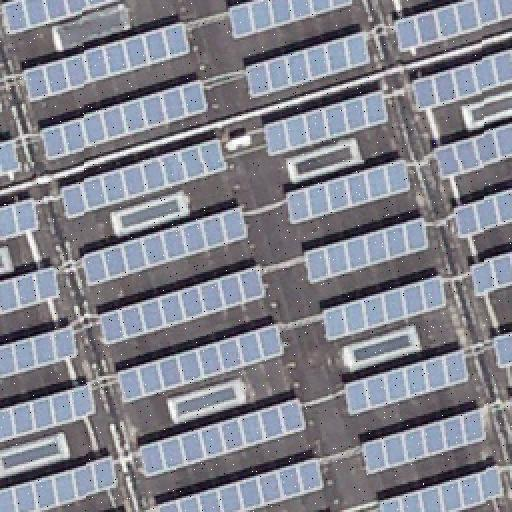solar-panel: (116, 320, 288, 404), (40, 78, 212, 162), (83, 207, 253, 289), (21, 22, 195, 102), (139, 396, 309, 476), (99, 264, 269, 344), (59, 138, 229, 218), (155, 456, 325, 512), (244, 29, 376, 99), (322, 272, 450, 340), (262, 90, 390, 158), (283, 159, 413, 225), (305, 216, 431, 284), (343, 350, 473, 414), (361, 407, 487, 473), (0, 454, 124, 512), (1, 380, 103, 444), (409, 49, 511, 111), (393, 0, 511, 52), (378, 465, 506, 511), (227, 1, 357, 39), (432, 123, 512, 181), (0, 324, 80, 380), (3, 0, 125, 36), (452, 189, 512, 243), (0, 266, 64, 314), (0, 198, 40, 242), (472, 251, 512, 293), (0, 137, 24, 175), (489, 329, 511, 367), (1, 93, 7, 115)
